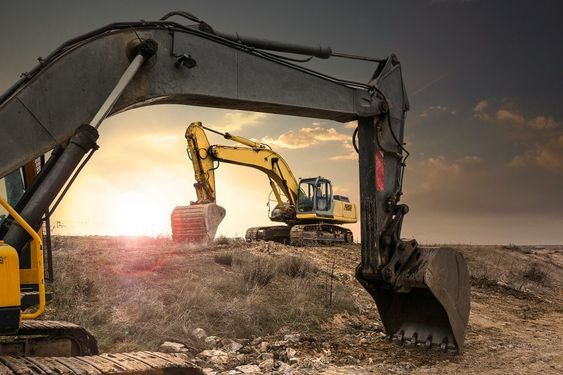excavator: (5, 27, 480, 372), (168, 111, 358, 281)
